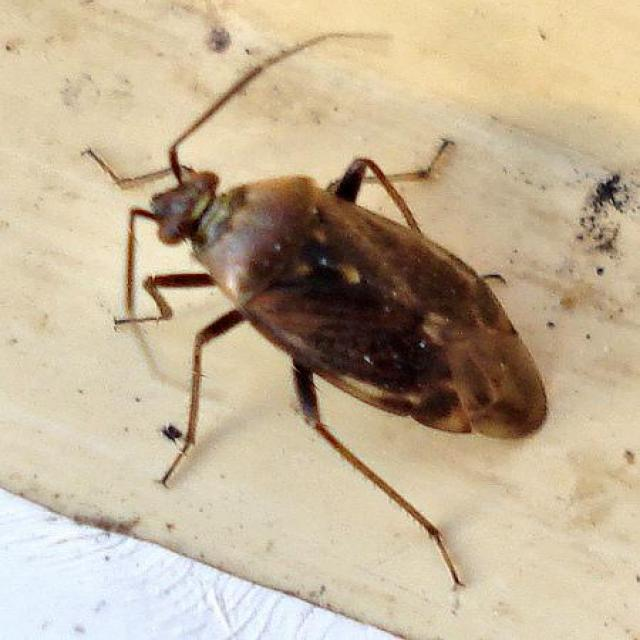Miridae-Adult-: (81, 20, 561, 602)
